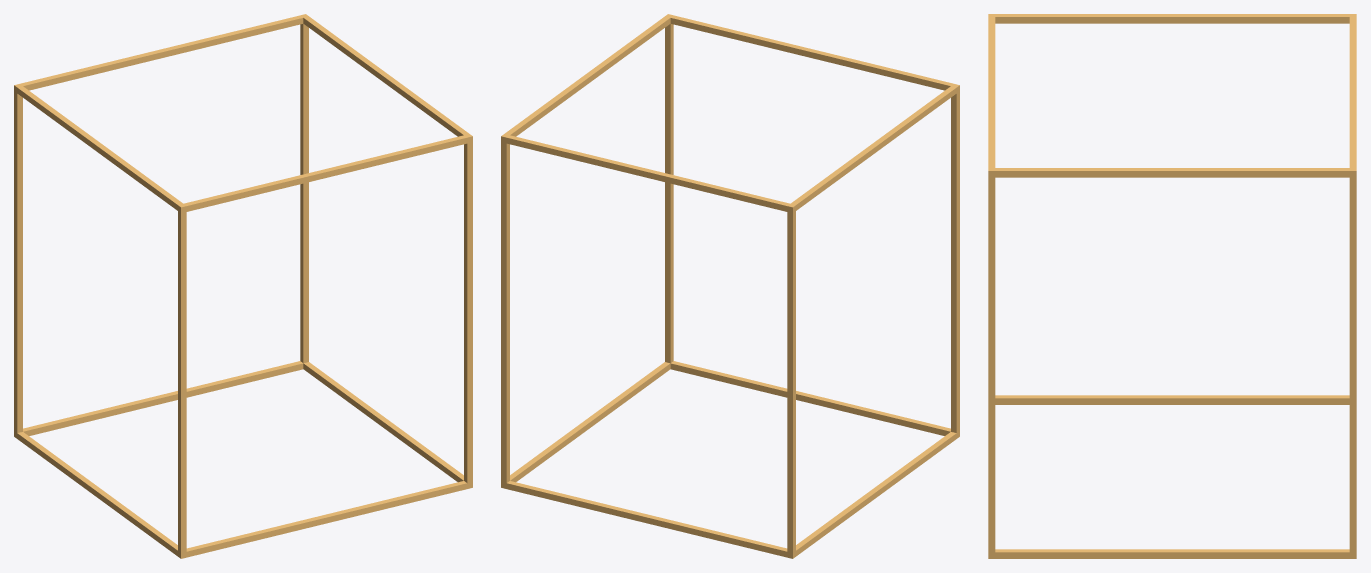
Rendered from backpacks.glb.
The picture shows the model from 3 angles, left to right: view 1: azimuth 30°, elevation 25°; view 2: azimuth 150°, elevation 25°; view 3: azimuth 270°, elevation 25°; orthographic projection. The views are drawn at different scales.
Visible parts, largest first — view 1: box_0; view 2: box_0; view 3: box_0.
Boxes of the visible parts, box(x1,y1,x2,y2) form: box_0: box(14, 14, 472, 558); box_0: box(501, 14, 959, 558); box_0: box(988, 14, 1356, 558).
Bounding box in the file's own units: 0.5145 × 0.5923 × 0.5102.
